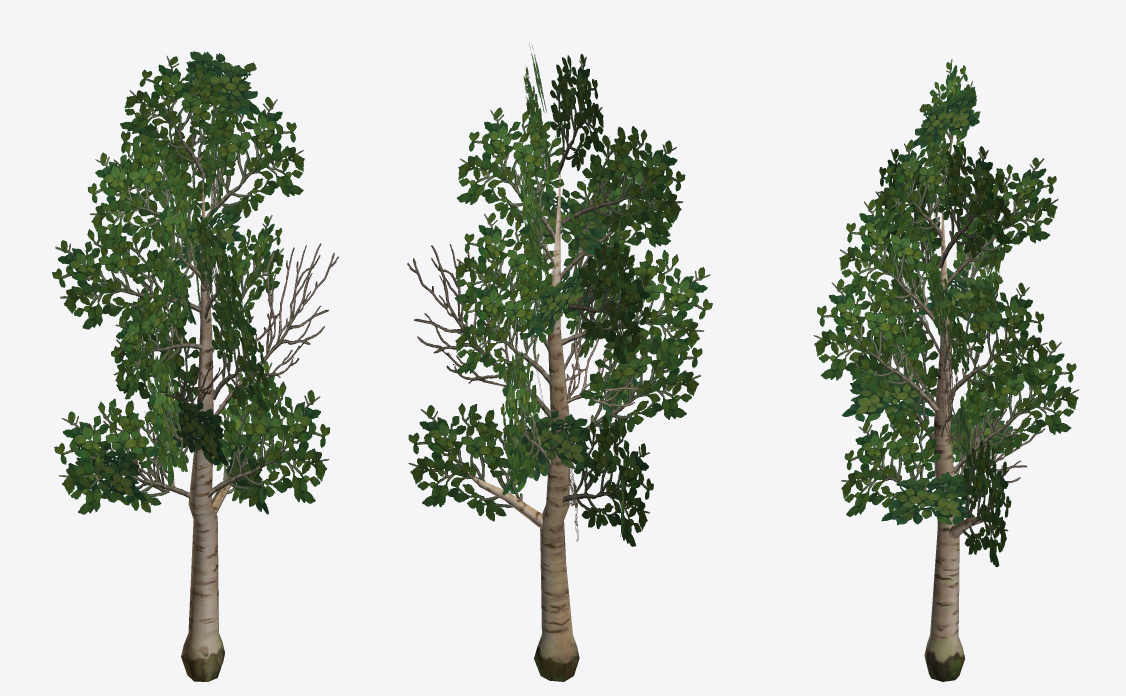
The model's file is White_BirchA.FBX.
3 renders of one model, left to right at view 1: azimuth 30°, elevation 25°; view 2: azimuth 150°, elevation 25°; view 3: azimuth 270°, elevation 25°, orthographic. The views are drawn at different scales.
Visible parts, largest first — view 1: White_BirchA; view 2: White_BirchA; view 3: White_BirchA.
Boxes of the visible parts, <box> form: White_BirchA: <box>52,51,338,681</box>; White_BirchA: <box>407,42,712,681</box>; White_BirchA: <box>813,59,1079,681</box>.
Size of the model in its own units: 635 by 1325 by 617.
